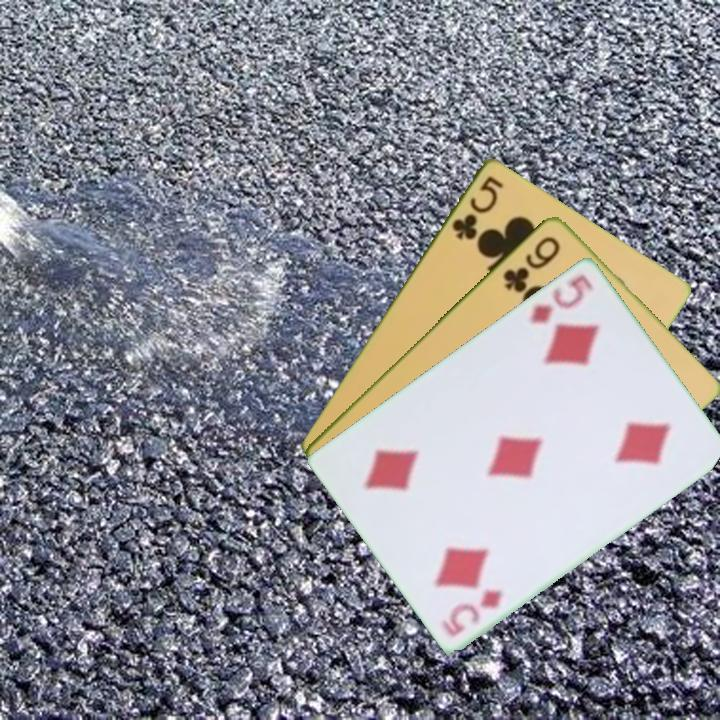5c: (448, 171, 506, 243)
5d: (526, 270, 598, 326), (440, 584, 505, 640)
9c: (499, 232, 563, 295)
